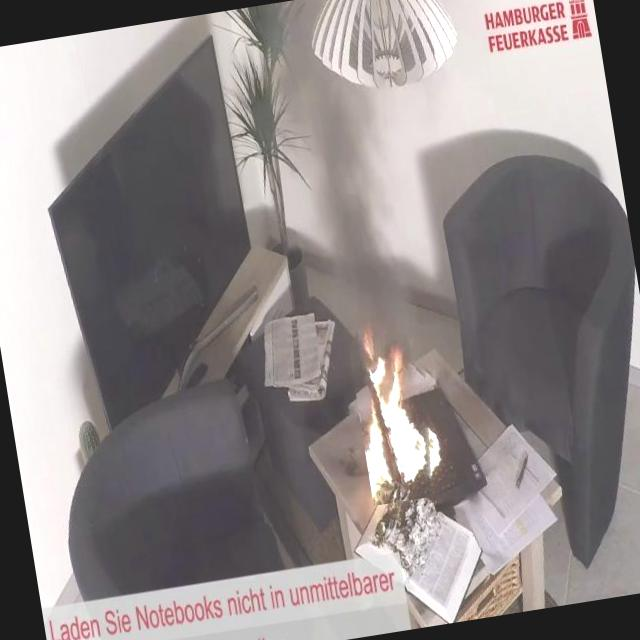fire: (348, 316, 451, 487)
